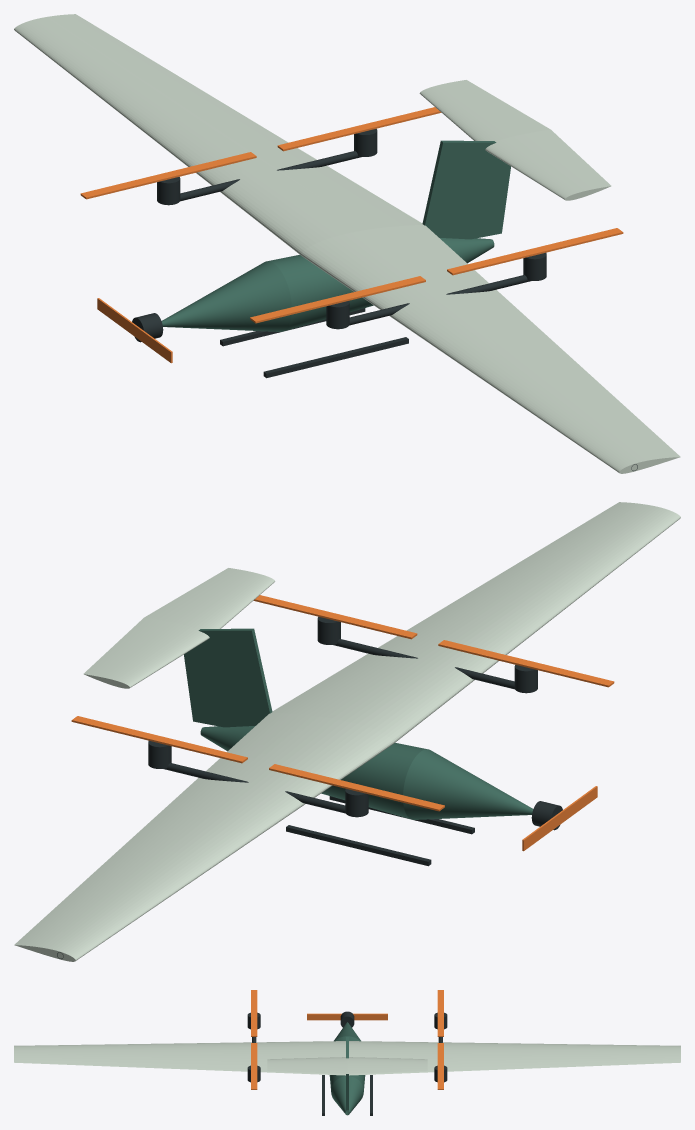
The picture shows the model from 3 angles, top to bottom: view 1: azimuth 30°, elevation 25°; view 2: azimuth 150°, elevation 25°; view 3: azimuth 270°, elevation 25°; orthographic projection. The views are drawn at different scales.
Visible parts, largest first — view 1: wing-1, wing1, fuselage, fin, tail-1, tail1, prop_-1_700.0, prop_1_230.0, prop_-1_230.0, prop_1_700.0, skid-1, boom-1 (+2 smaller); view 2: wing1, wing-1, fuselage, fin, tail1, tail-1, prop_-1_230.0, prop_1_700.0, prop_1_230.0, prop_-1_700.0, skid1, boom1 (+2 smaller); view 3: wing-1, wing1, fuselage, tail-1, tail1, cruise_prop, prop_-1_230.0, prop_-1_700.0, prop_1_230.0, prop_1_700.0.
Part boxes in pixels (left/top/right/bottom): wing-1: left=301, top=225, right=680, bottom=473; wing1: left=14, top=14, right=423, bottom=255; fuselage: left=161, top=237, right=494, bottom=331; fin: left=422, top=140, right=510, bottom=239; tail-1: left=485, top=129, right=611, bottom=200; tail1: left=419, top=80, right=550, bottom=141; prop_-1_700.0: left=447, top=228, right=623, bottom=275; prop_1_230.0: left=80, top=152, right=256, bottom=199; prop_-1_230.0: left=250, top=276, right=425, bottom=323; prop_1_700.0: left=277, top=107, right=441, bottom=151; skid-1: left=263, top=337, right=408, bottom=378; boom-1: left=349, top=275, right=530, bottom=325; wing1: left=14, top=713, right=393, bottom=961; wing-1: left=271, top=502, right=680, bottom=743; fuselage: left=200, top=725, right=533, bottom=819; fin: left=184, top=628, right=272, bottom=727; tail1: left=83, top=617, right=209, bottom=688; tail-1: left=144, top=568, right=275, bottom=629; prop_-1_230.0: left=438, top=640, right=614, bottom=687; prop_1_700.0: left=71, top=716, right=247, bottom=763; prop_1_230.0: left=269, top=764, right=444, bottom=811; prop_-1_700.0: left=253, top=595, right=417, bottom=639; skid1: left=286, top=825, right=431, bottom=866; boom1: left=164, top=763, right=345, bottom=813; wing-1: left=14, top=1041, right=345, bottom=1075; wing1: left=349, top=1041, right=680, bottom=1075; fuselage: left=329, top=1022, right=365, bottom=1115; tail-1: left=267, top=1057, right=347, bottom=1073; tail1: left=347, top=1057, right=427, bottom=1073; cruise_prop: left=307, top=1013, right=387, bottom=1020; prop_-1_230.0: left=251, top=990, right=257, bottom=1036; prop_-1_700.0: left=251, top=1043, right=257, bottom=1089; prop_1_230.0: left=437, top=990, right=443, bottom=1036; prop_1_700.0: left=437, top=1043, right=443, bottom=1089.
Size of the model in its own units: 994 by 390 by 2500.
